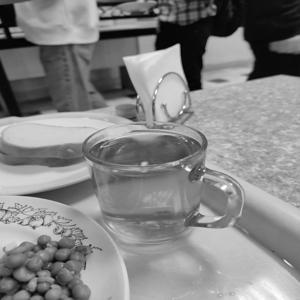bread: (3, 118, 114, 165)
tea: (62, 114, 240, 257)
